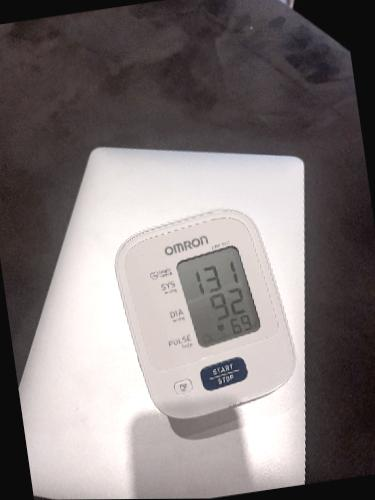bpm: (171, 243, 263, 349)
